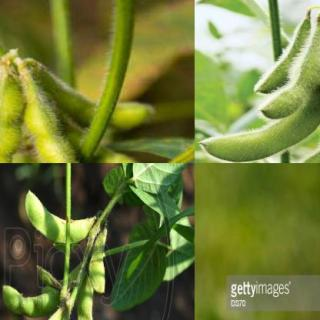soya: (31, 59, 155, 133), (201, 97, 319, 162), (20, 80, 95, 162), (261, 28, 319, 121), (250, 19, 313, 94), (25, 189, 90, 243), (64, 126, 151, 162), (0, 76, 25, 162), (1, 285, 60, 317), (283, 120, 319, 162), (89, 229, 107, 295), (77, 283, 101, 319), (21, 308, 62, 319)
